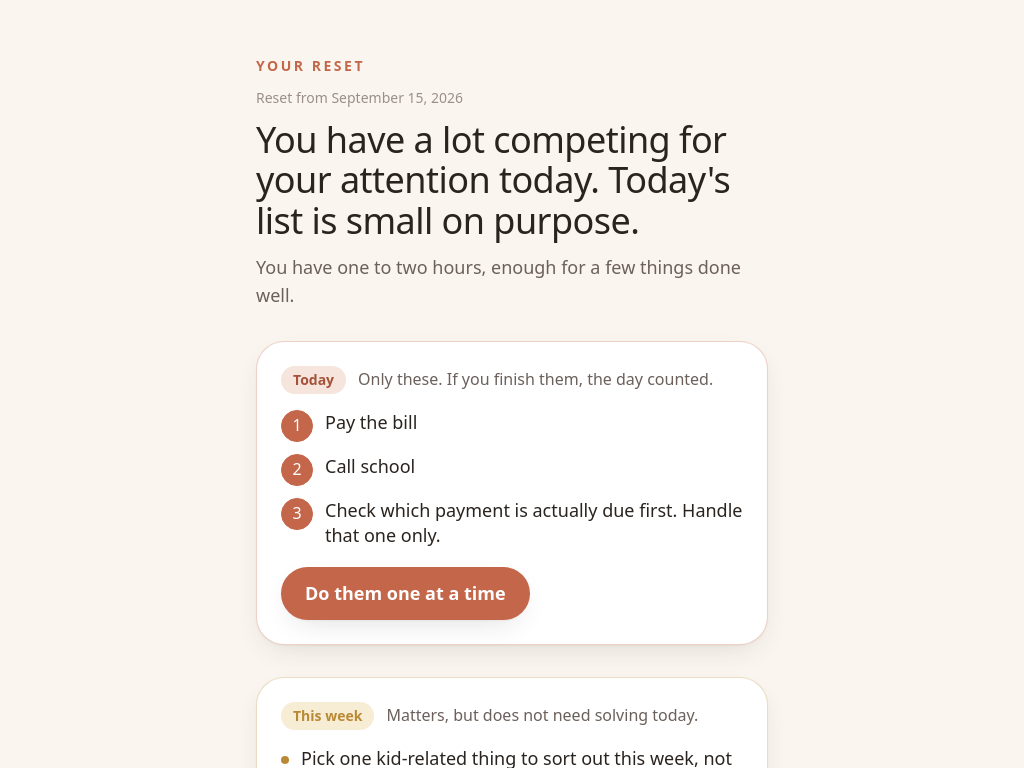
Test case: result page: ticking, focus mode and add to load › walks through focus mode one item at a time
Expected: the text "Pay the bill" is shown, [325,410,417,434]
Click the button "Do them one at a time": (405, 594) [281,567,530,620]
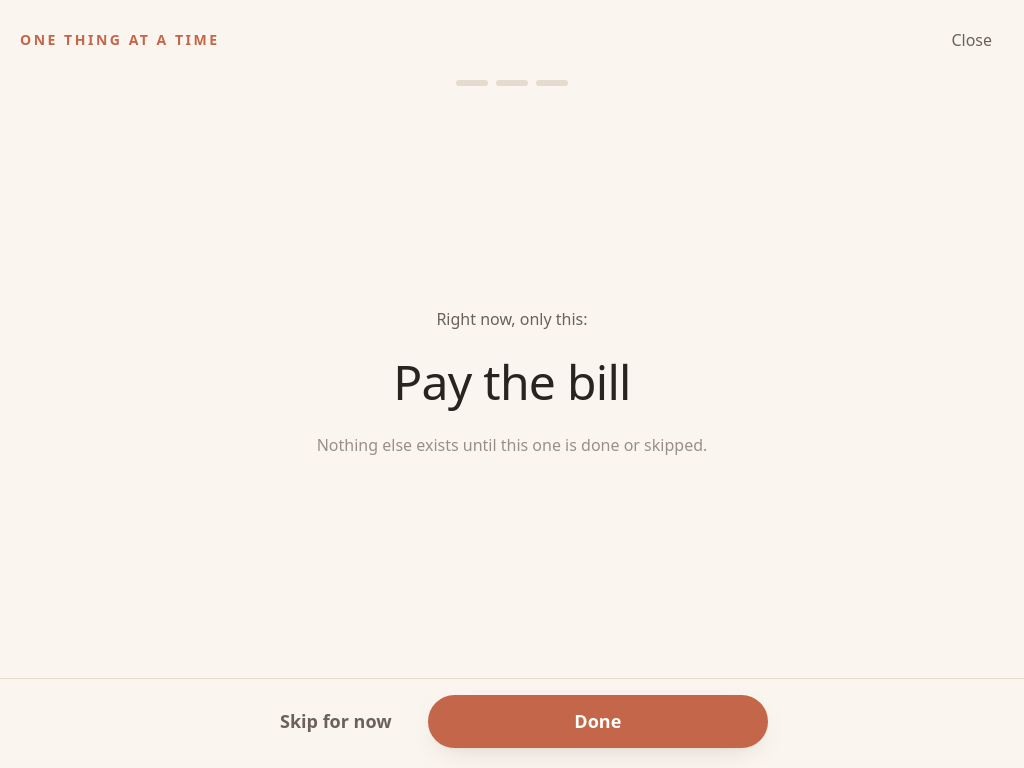
Expected: the text "Pay the bill" is shown, [393,349,631,414]
Click the button "Done": (598, 722) [428,695,768,748]
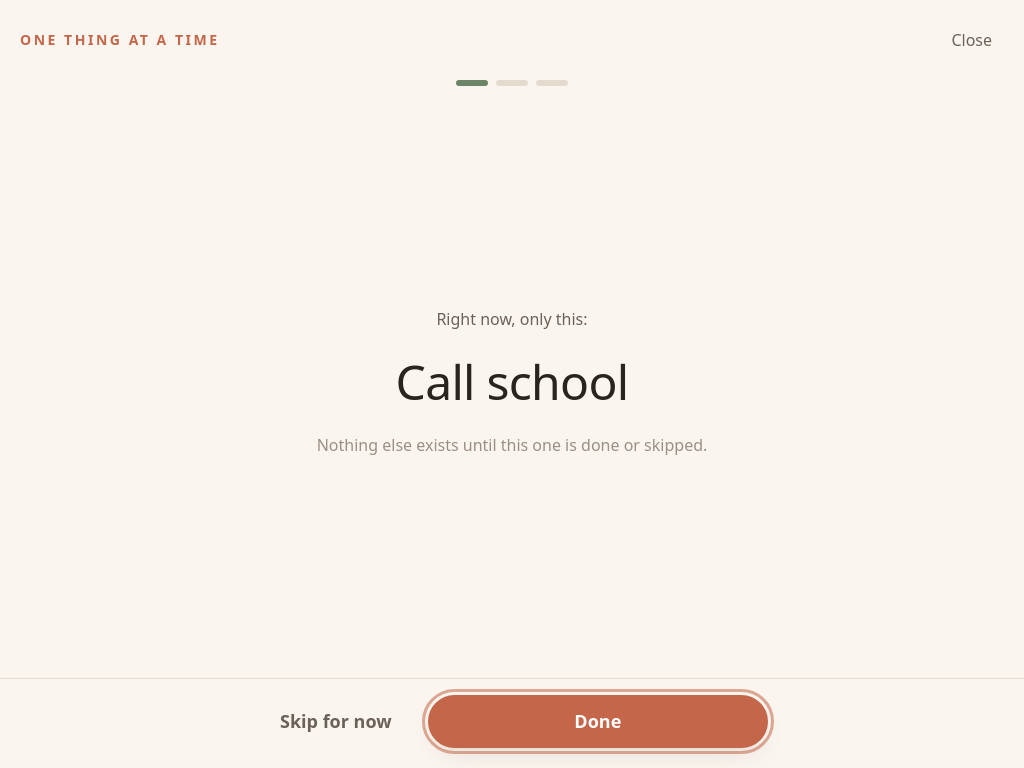
Click the button "Done": (598, 722) [428,695,768,748]
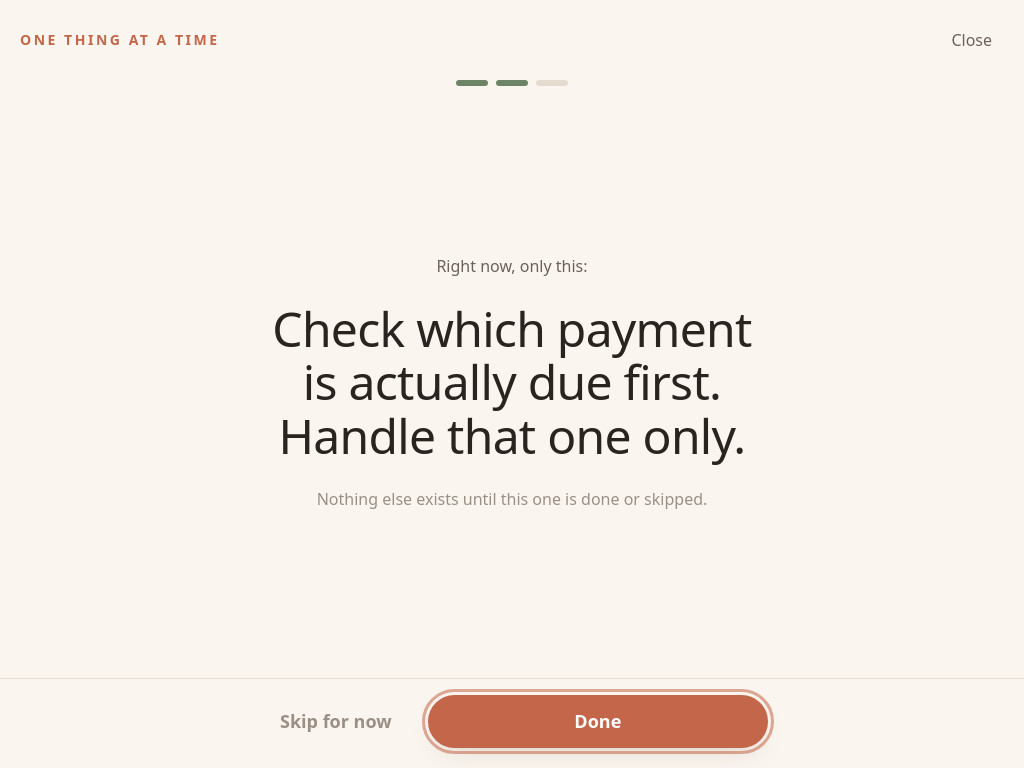
Click the button "Done": (598, 722) [428,695,768,748]
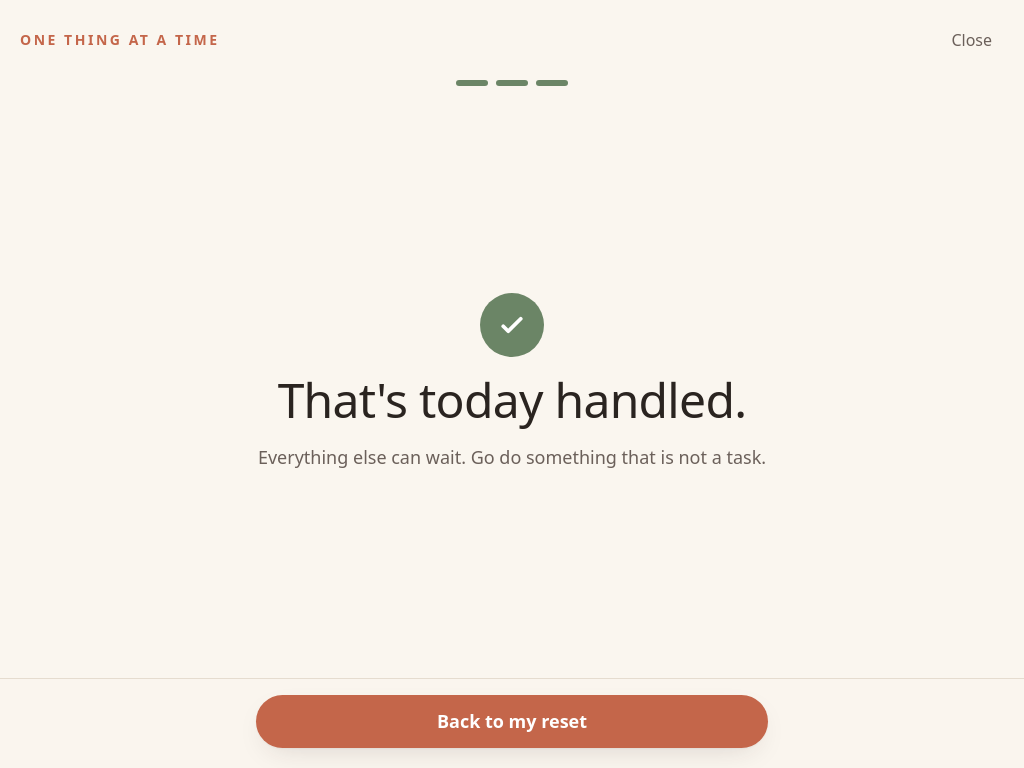
Expected: the text "That's today handled." is shown, [258,373,766,427]
Click the button "Back to my reset": (512, 722) [256,695,768,748]
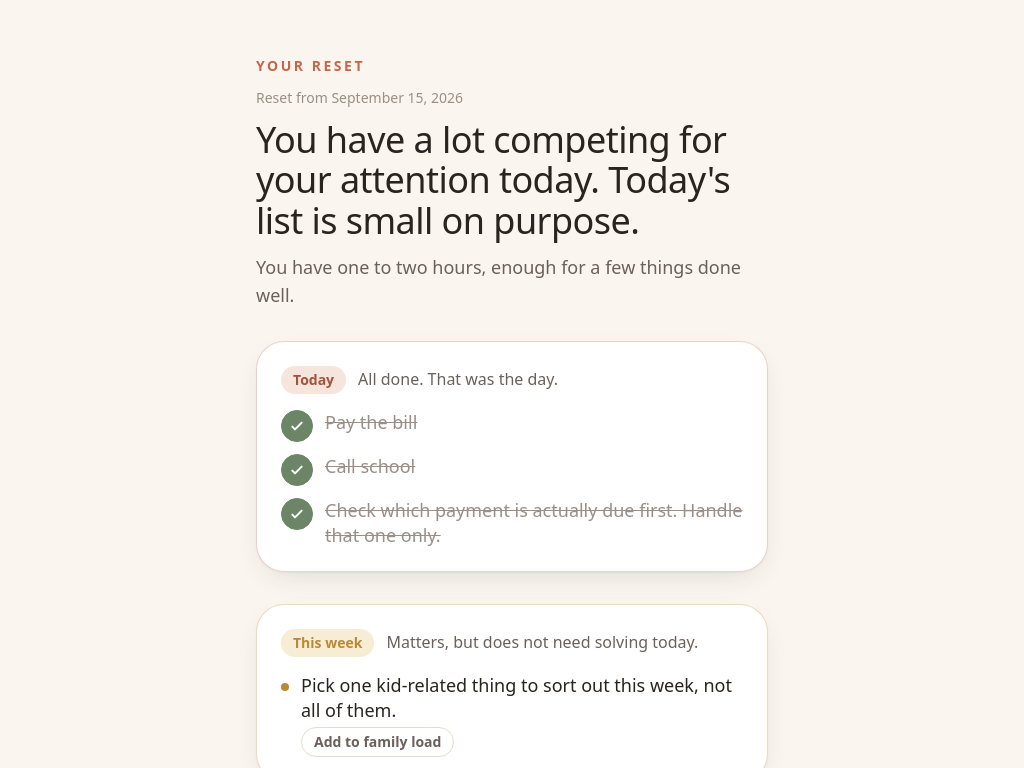
Expected: the text "All done. That was the day." is shown, [358,367,558,391]
Expected: the dialog is gone
